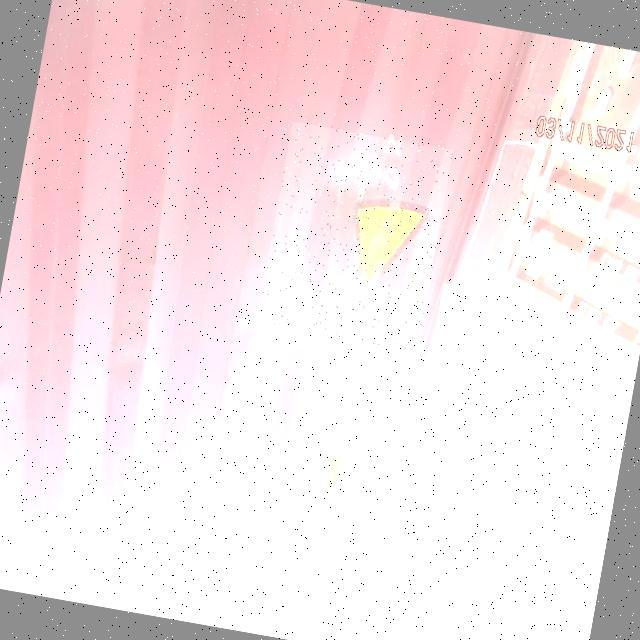Dent: (256, 119, 453, 352)
